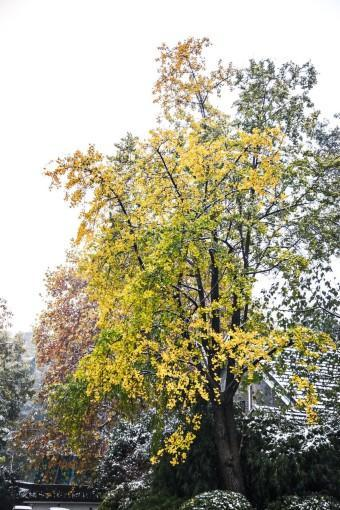tree: (45, 30, 324, 503)
